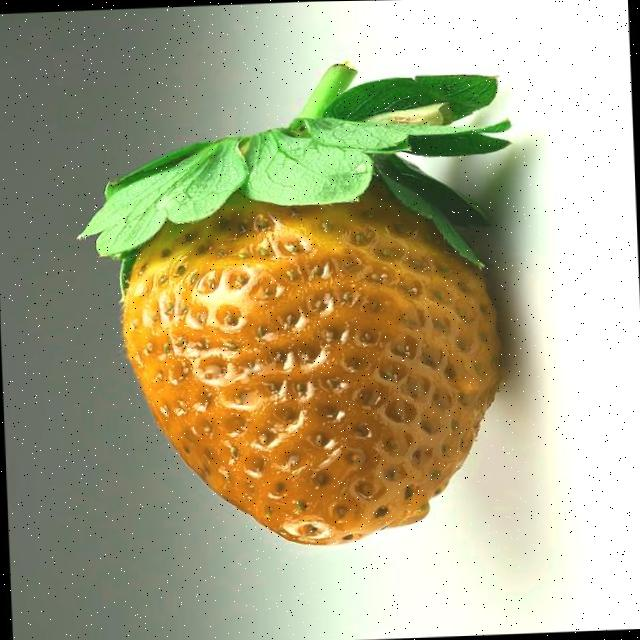strawberry: (81, 63, 507, 544)
